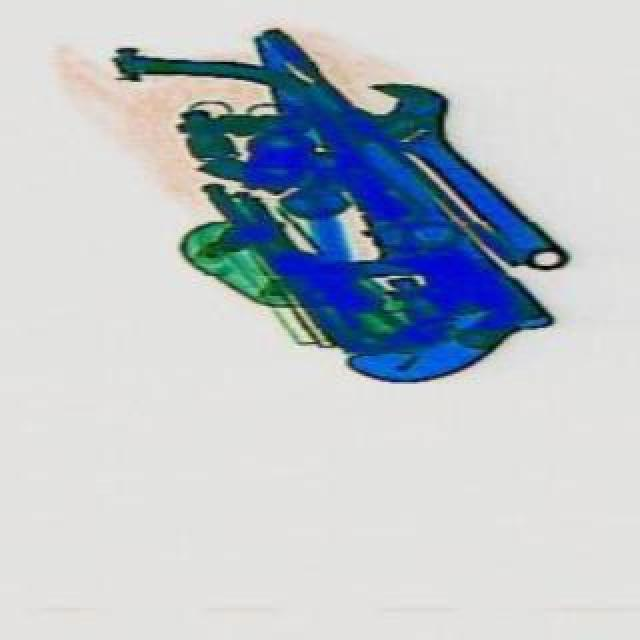scissors: (328, 52, 590, 296)
